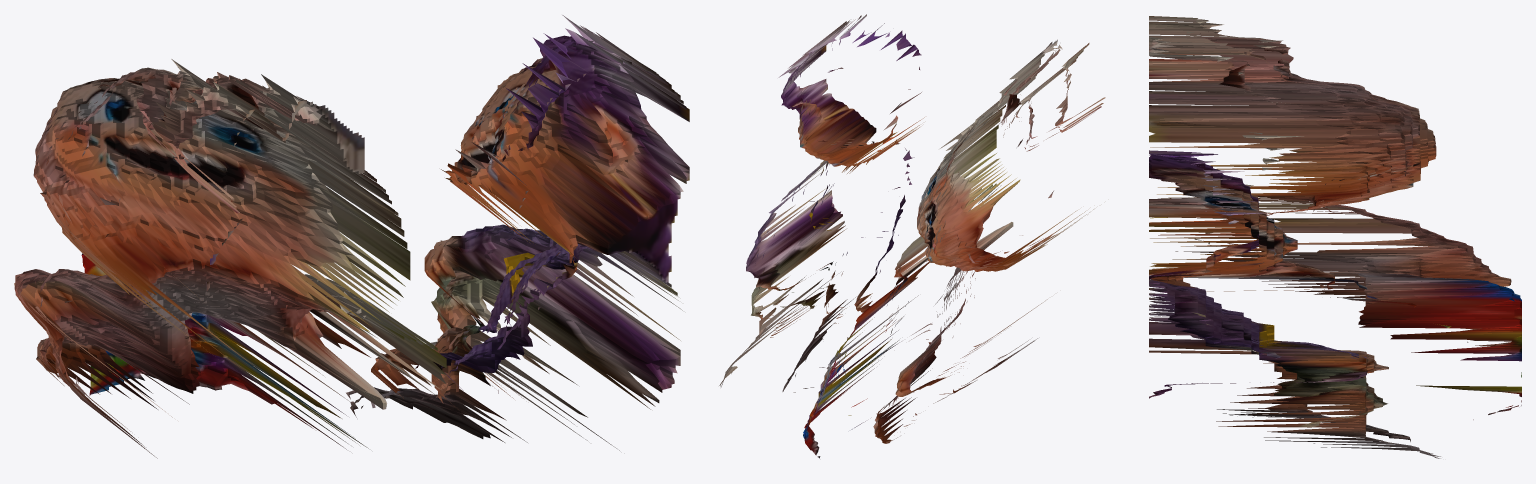
File: frame_00424.glb
3 views of the same model, side by side, from view 1: azimuth 30°, elevation 25°; view 2: azimuth 150°, elevation 25°; view 3: azimuth 270°, elevation 25° (orthographic). The views are drawn at different scales.
Parts seen in each view (by area): view 1: geometry_0; view 2: geometry_0; view 3: geometry_0.
Part boxes in pixels (left/top/right/bottom): geometry_0: left=14, top=15, right=689, bottom=458; geometry_0: left=719, top=14, right=1105, bottom=458; geometry_0: left=1149, top=16, right=1521, bottom=458.
Size of the model in its own units: 0.1575 by 0.1626 by 0.16.
1 material, 1 textured.
